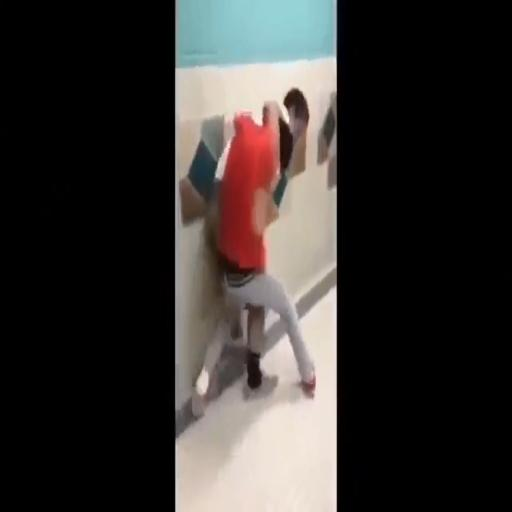violencia: (186, 48, 322, 419)
